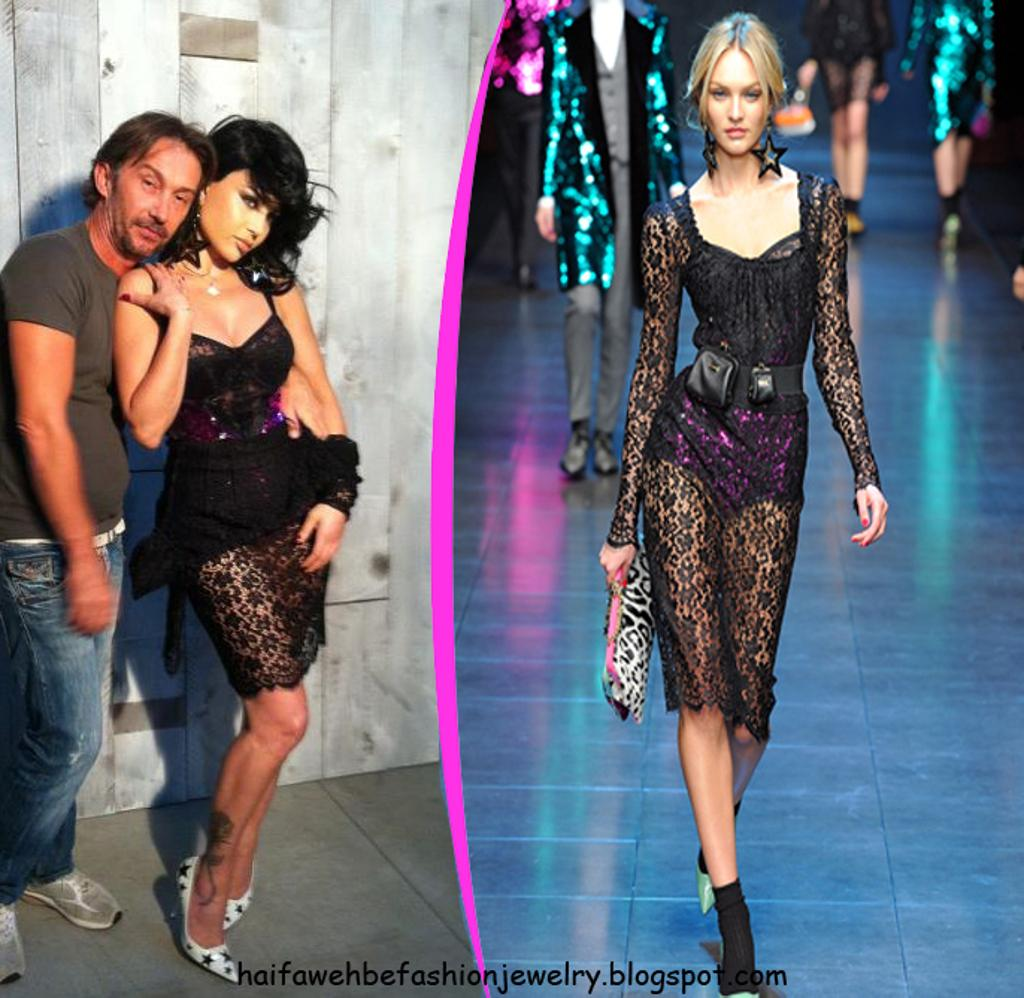face: (110, 146, 200, 254), (204, 164, 282, 262), (708, 44, 774, 156)
